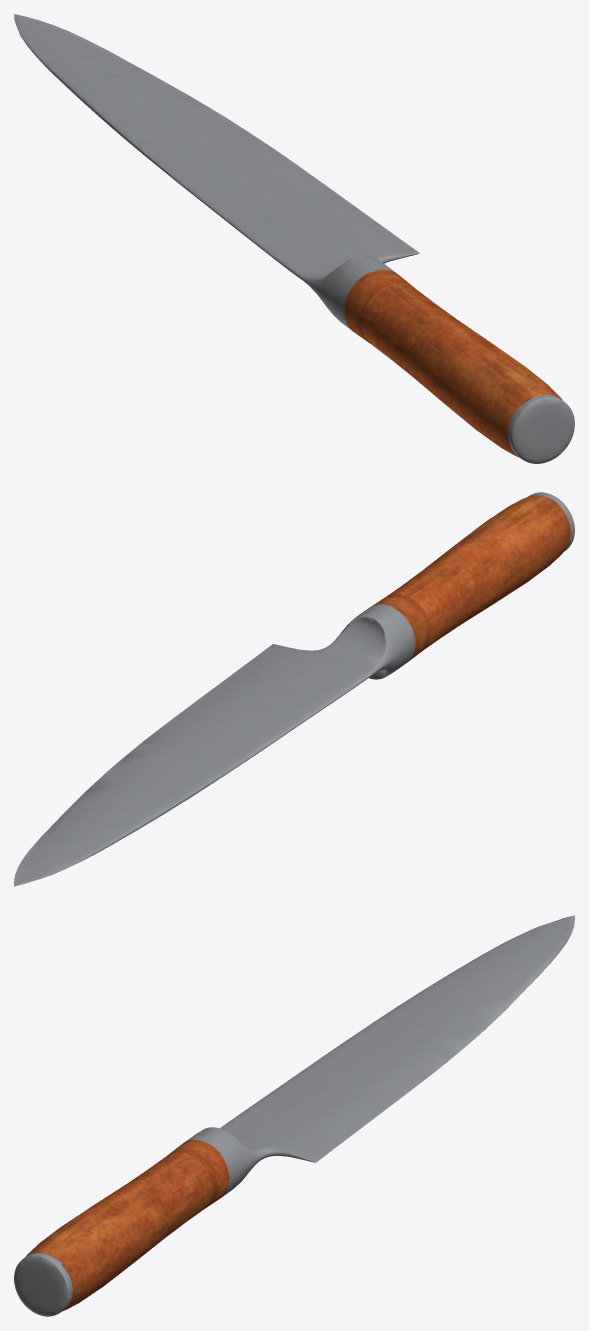
The model's file is kitchenware_knife_a01.glb.
3 renders of one model, top to bottom at view 1: azimuth 30°, elevation 25°; view 2: azimuth 150°, elevation 25°; view 3: azimuth 330°, elevation 25°, orthographic. The views are drawn at different scales.
Visible parts, largest first — view 1: kitchenware_knife_a01_lod1; view 2: kitchenware_knife_a01_lod1; view 3: kitchenware_knife_a01_lod1.
Boxes of the visible parts, box(x1,y1,x2,y2) form: kitchenware_knife_a01_lod1: box(14, 14, 574, 463); kitchenware_knife_a01_lod1: box(14, 492, 574, 886); kitchenware_knife_a01_lod1: box(14, 915, 574, 1316).
Bounding box in the file's own units: 0.0416 × 0.0239 × 0.3303.
Materials: 1 (1 with a texture image).
